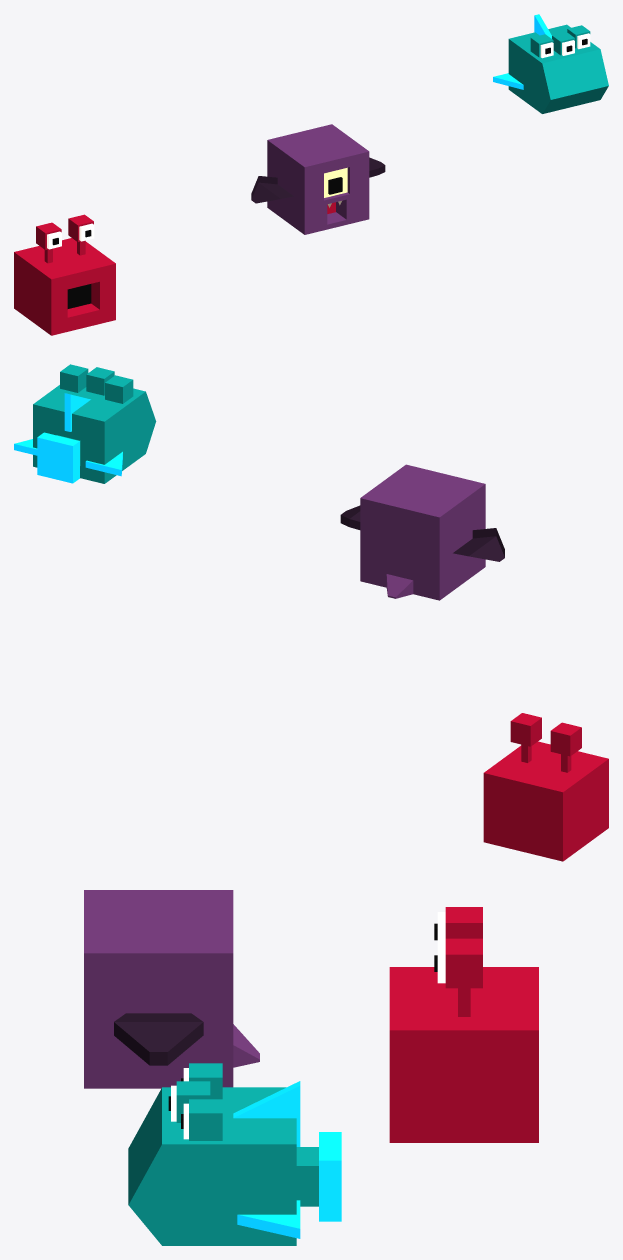
Rendered from mobs.glb.
3 renders of one model, top to bottom at view 1: azimuth 30°, elevation 25°; view 2: azimuth 150°, elevation 25°; view 3: azimuth 270°, elevation 25°, orthographic. The views are drawn at different scales.
Parts seen in each view (by area): view 1: pete, andy, nemo, pete-wing.R, nemo-fins, andy-mouth, nemo-whites; view 2: andy, pete, nemo, nemo-fins, pete-wing.R; view 3: andy, pete, nemo, nemo-fins, pete-wing.L, andy-whites, nemo-whites.
Part boxes in pixels (box(x1,y1,x2,y2)): pete: box(267, 124, 369, 234); andy: box(14, 214, 115, 335); nemo: box(508, 24, 608, 113); pete-wing.R: box(251, 176, 293, 203); nemo-fins: box(493, 14, 551, 89); andy-mouth: box(67, 284, 91, 308); nemo-whites: box(540, 33, 590, 58); andy: box(483, 713, 608, 861); pete: box(360, 464, 485, 600); nemo: box(33, 364, 156, 483); nemo-fins: box(14, 393, 122, 483); pete-wing.R: box(453, 528, 504, 561); andy: box(389, 907, 538, 1142); pete: box(84, 890, 259, 1088); nemo: box(128, 1063, 318, 1245); nemo-fins: box(233, 1081, 341, 1238); pete-wing.L: box(114, 1013, 203, 1065); andy-whites: box(437, 912, 445, 983); nemo-whites: box(171, 1068, 188, 1139).
Bounding box in the file's own units: 4.7 × 1.99 × 1.83.
